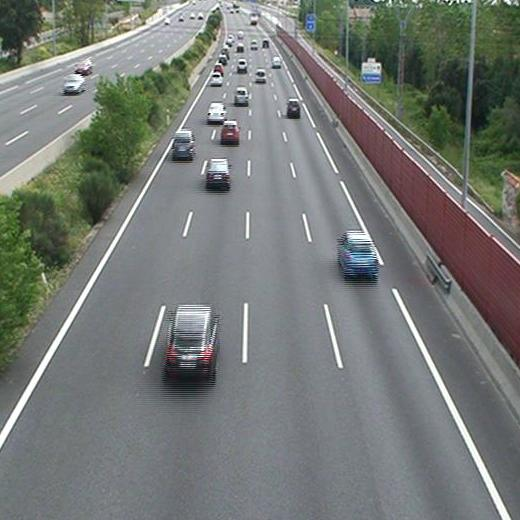car: (165, 306, 216, 371), (339, 233, 378, 274), (207, 159, 229, 185), (173, 132, 193, 155), (221, 122, 240, 141), (207, 103, 226, 121), (234, 88, 248, 103), (287, 100, 300, 116), (209, 72, 224, 85), (255, 69, 266, 82), (237, 59, 247, 71), (271, 56, 281, 67), (218, 55, 229, 64), (213, 64, 224, 72), (237, 42, 245, 53), (250, 40, 258, 50)
